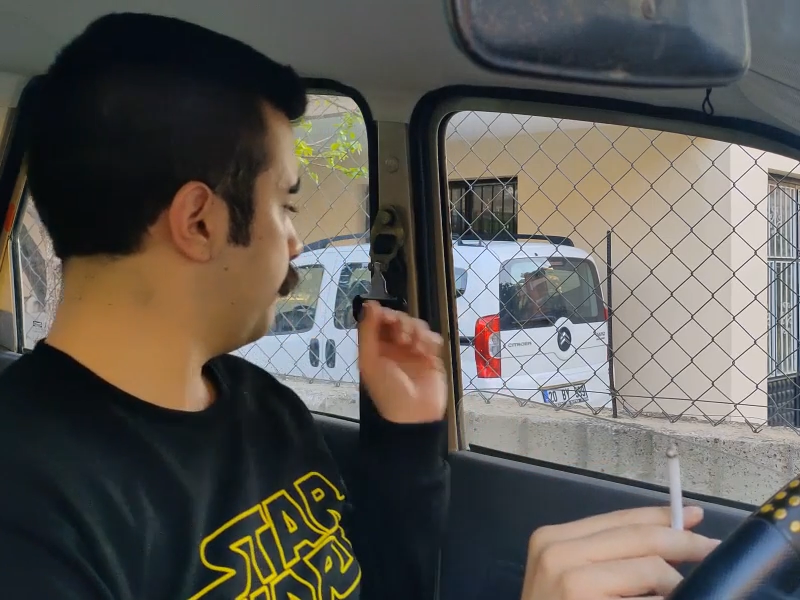sigara: (662, 435, 687, 537)
